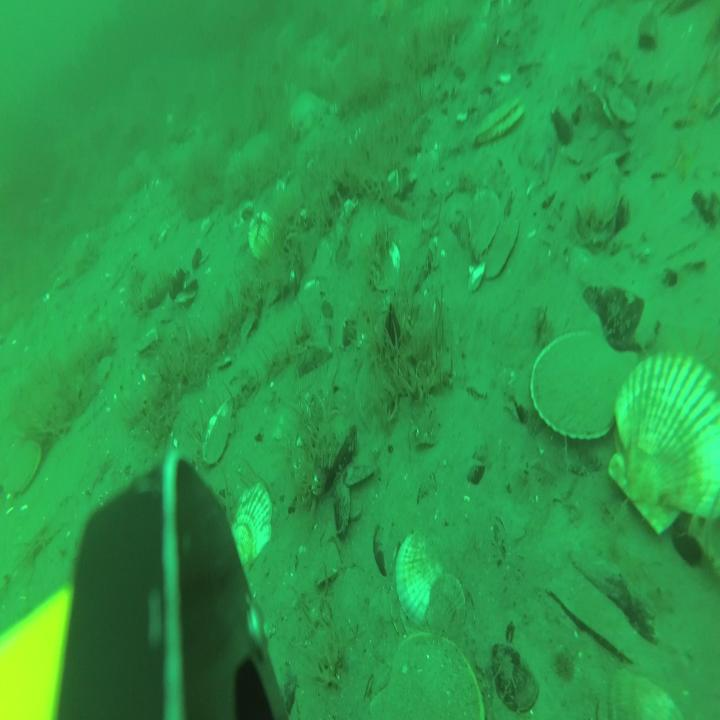scallop: (606, 350, 719, 530), (527, 333, 636, 441), (384, 639, 482, 720), (592, 665, 684, 720), (395, 531, 444, 623), (230, 481, 269, 566), (472, 95, 526, 143), (483, 215, 520, 280), (425, 577, 467, 634), (467, 186, 498, 255), (204, 402, 236, 462), (10, 435, 39, 496), (249, 212, 275, 264)
starfish: (290, 91, 332, 134)
